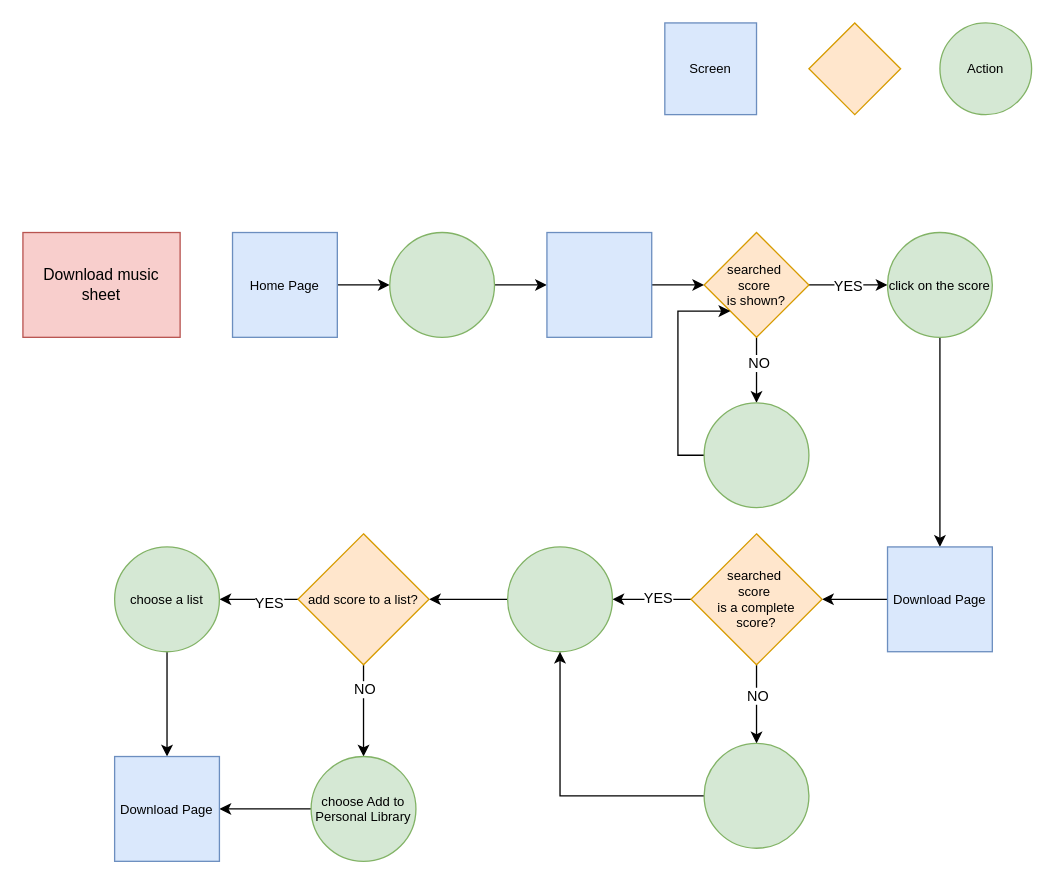
Some shapes in this 1055 by 884 pixel diagram are drawn without their labels. Here are the shapes that lost their labels. From the top down, the centre of each, then its label:
(x=854, y=68): Decision
(x=441, y=284): select Library from sidebar
(x=599, y=284): Library Page
(x=756, y=455): filter items
(x=559, y=599): click Download button
(x=756, y=795): click on Parts button
